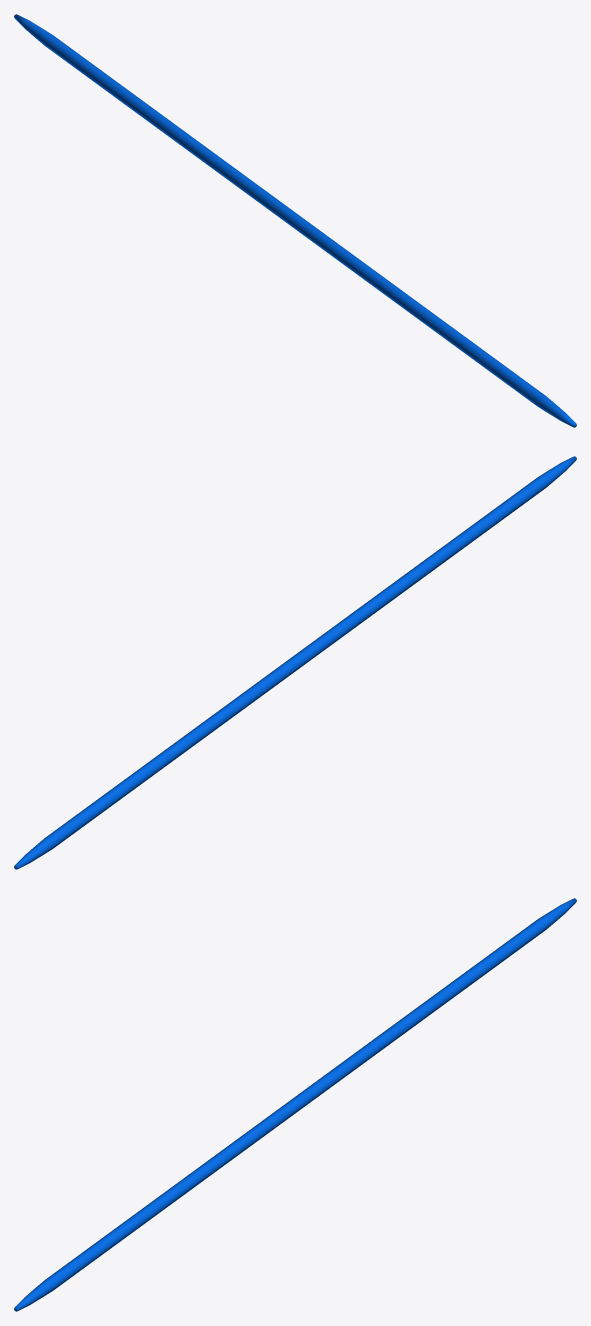
Rendered from SM_Mikado_Mikado.fbx.
The picture shows the model from 3 angles, top to bottom: view 1: azimuth 30°, elevation 25°; view 2: azimuth 150°, elevation 25°; view 3: azimuth 330°, elevation 25°; orthographic projection.
Visible parts, largest first — view 1: Mikado_Mikado; view 2: Mikado_Mikado; view 3: Mikado_Mikado.
Part boxes in pixels (x1,y1,x2,y2): Mikado_Mikado: (14,14,576,427); Mikado_Mikado: (14,456,576,869); Mikado_Mikado: (14,898,576,1311).
Bounding box in the file's own units: 0.3563 × 0.3563 × 29.26.
